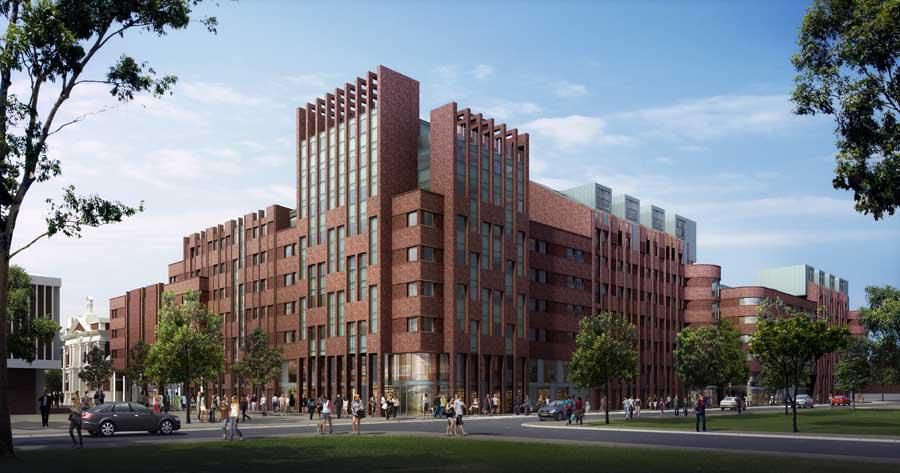affected: (105, 61, 860, 413)
